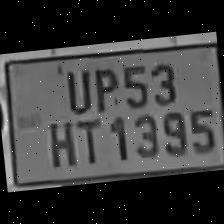1: (101, 112, 132, 163)
3: (128, 106, 161, 160), (146, 57, 180, 106)
5: (116, 58, 150, 109), (184, 105, 218, 156)
9: (157, 105, 188, 158)
H: (41, 114, 77, 169)
P: (88, 61, 121, 114)
T: (72, 114, 106, 167)
U: (58, 64, 94, 115)
